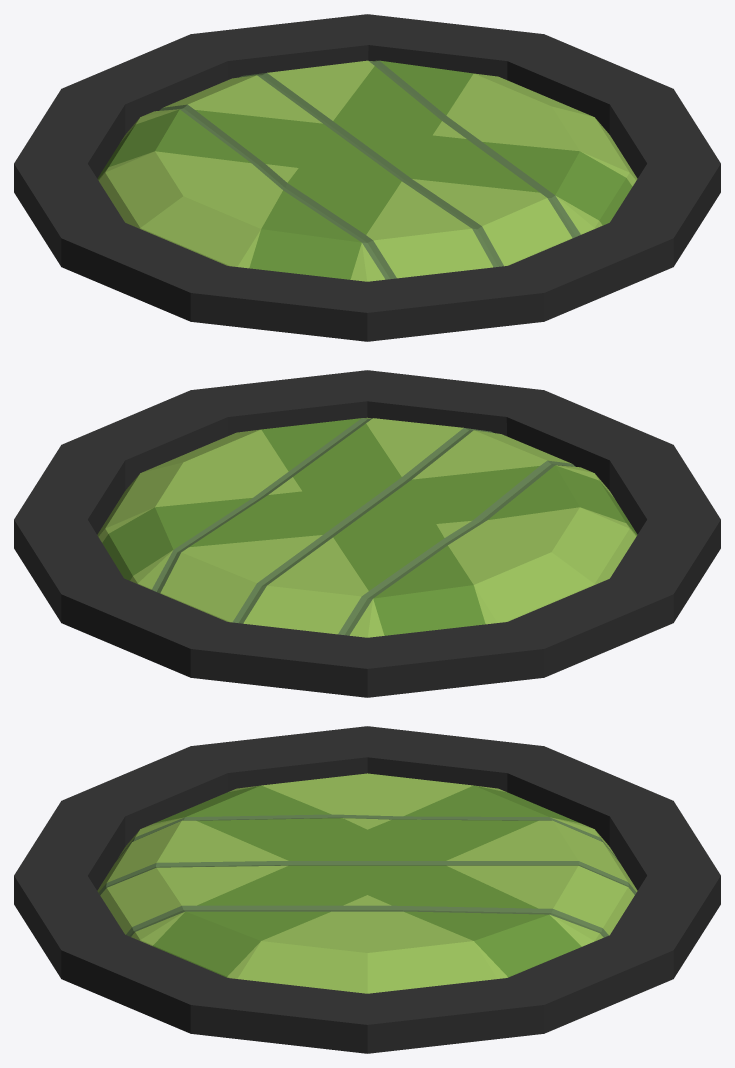
File: F_Shield_B_Green.fbx
The picture shows the model from 3 angles, top to bottom: view 1: azimuth 30°, elevation 25°; view 2: azimuth 150°, elevation 25°; view 3: azimuth 270°, elevation 25°; orthographic projection.
Parts seen in each view (by area): view 1: F_Shield_B_Green; view 2: F_Shield_B_Green; view 3: F_Shield_B_Green.
Part boxes in pixels (left/top/right/bottom): F_Shield_B_Green: left=14, top=14, right=720, bottom=341; F_Shield_B_Green: left=14, top=370, right=720, bottom=697; F_Shield_B_Green: left=14, top=726, right=720, bottom=1053.
Bounding box in the file's own units: 75.7 × 7.63 × 75.7.
